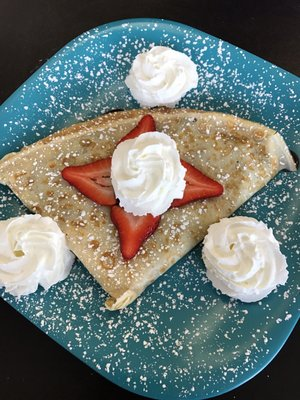pasta: (124, 46, 198, 108)
